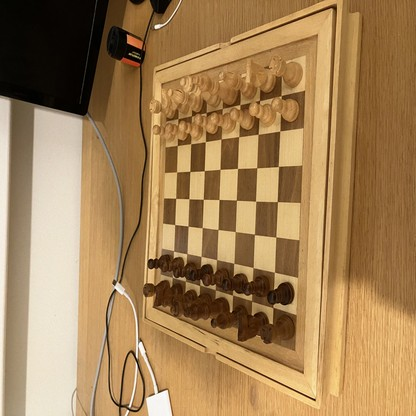bishop_black: (211, 306, 248, 330), (162, 290, 197, 307)
bishop_white: (218, 71, 257, 97), (168, 87, 202, 111)
king_black: (184, 297, 229, 321)
king_white: (192, 75, 238, 104)
knight_black: (237, 312, 269, 342), (154, 284, 183, 307)
knight_white: (245, 60, 275, 92), (161, 87, 189, 114)
pawn_black: (267, 282, 295, 304), (222, 273, 248, 293), (244, 277, 268, 297), (203, 269, 228, 286), (148, 253, 170, 270), (191, 264, 213, 281), (174, 264, 197, 278), (161, 258, 184, 271)
pawn_white: (271, 98, 299, 122), (248, 102, 276, 124), (230, 107, 254, 130), (210, 112, 237, 132), (178, 120, 203, 140), (195, 113, 218, 133), (166, 122, 188, 140), (153, 125, 175, 142)
queen_black: (171, 294, 211, 318)
queen_white: (181, 74, 220, 107)
rock_black: (260, 316, 295, 344), (143, 280, 169, 298)
rock_white: (270, 55, 303, 86), (150, 100, 173, 117)
